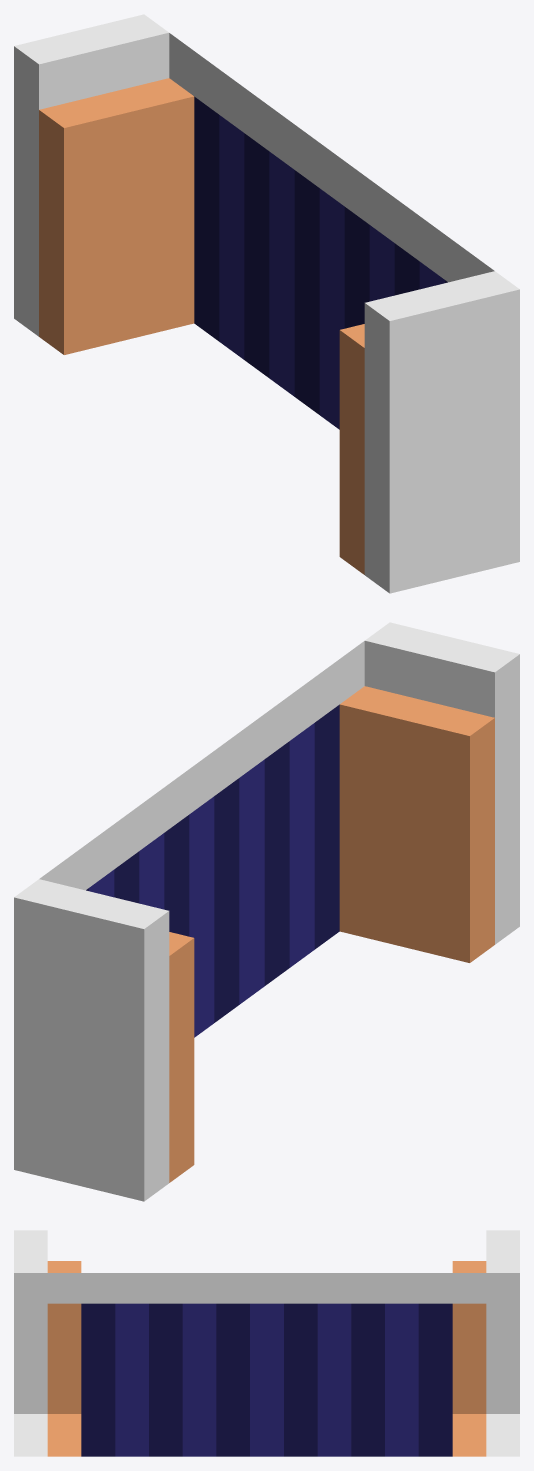
Rendered from Parte2.fbx.
3 views of the same model, one above another, from view 1: azimuth 30°, elevation 25°; view 2: azimuth 150°, elevation 25°; view 3: azimuth 270°, elevation 25° (orthographic). The views are drawn at different scales.
Visible parts, largest first — view 1: Entrada Izq; view 2: Entrada Izq; view 3: Entrada Izq.
Boxes of the visible parts, x1=… form: Entrada Izq: x1=14, y1=14, x2=519, y2=593; Entrada Izq: x1=14, y1=622, x2=519, y2=1201; Entrada Izq: x1=14, y1=1230, x2=519, y2=1456.
Size of the model in its own units: 30 by 60 by 150.
1 material, 1 textured.
